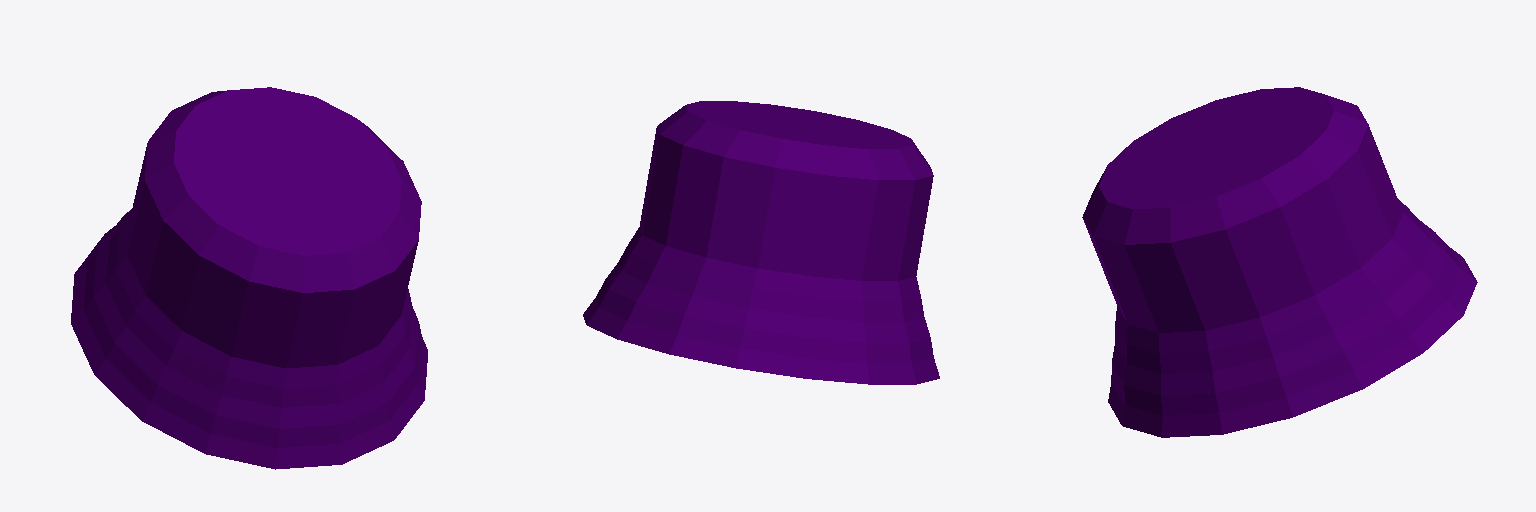
Rendered from sunhat_basic.obj.
3 renders of one model, left to right at view 1: azimuth 30°, elevation 25°; view 2: azimuth 150°, elevation 25°; view 3: azimuth 270°, elevation 25°, orthographic.
Parts seen in each view (by area): view 1: 0; view 2: 0; view 3: 0.
Boxes of the visible parts, <box> form: 0: <box>71,87,427,469</box>; 0: <box>583,101,939,384</box>; 0: <box>1082,87,1477,437</box>.
Bounding box in the file's own units: 0.4889 × 0.4386 × 0.539.